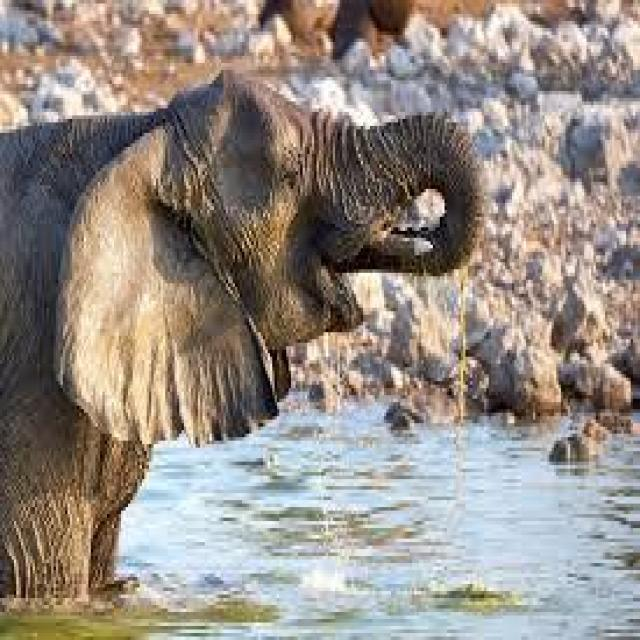Elephant: (0, 60, 477, 577)
